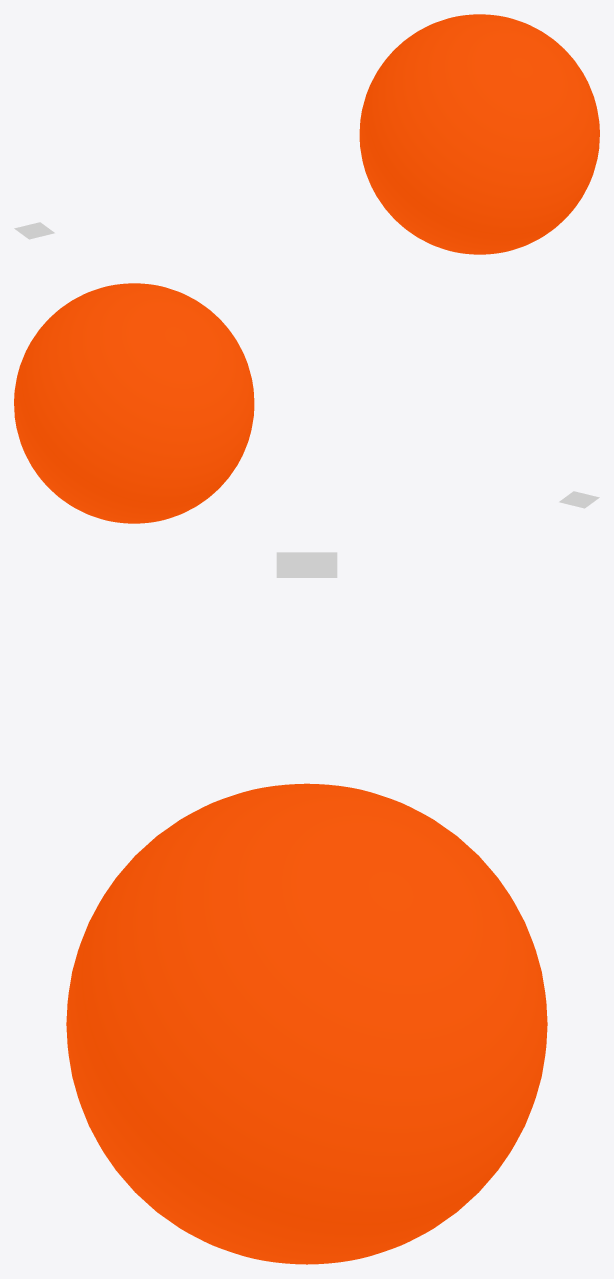
Rendered from sunset.glb.
3 renders of one model, top to bottom at view 1: azimuth 30°, elevation 25°; view 2: azimuth 150°, elevation 25°; view 3: azimuth 270°, elevation 25°, orthographic. The views are drawn at different scales.
Visible parts, largest first — view 1: Сфера, Плоскость; view 2: Сфера, Плоскость; view 3: Сфера, Плоскость.
Part boxes in pixels (x1,y1,x2,y2): Сфера: (359, 14, 599, 254); Плоскость: (14, 222, 54, 239); Сфера: (14, 283, 254, 523); Плоскость: (559, 491, 599, 508); Сфера: (66, 783, 547, 1264); Плоскость: (276, 552, 337, 577).
Size of the model in its own units: 12.63 by 4.68 by 4.68.
